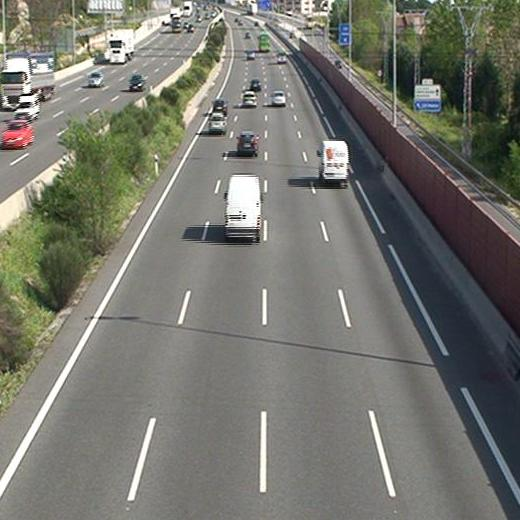car: (237, 132, 258, 151), (209, 113, 226, 132), (242, 92, 257, 106), (271, 92, 285, 106), (213, 98, 226, 111), (250, 77, 261, 90)
van: (224, 175, 262, 237), (319, 141, 349, 182)
